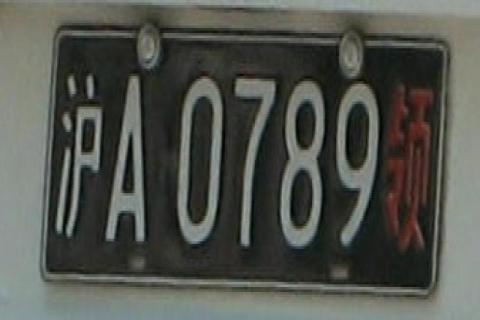LicensePlate: (39, 20, 451, 284)
